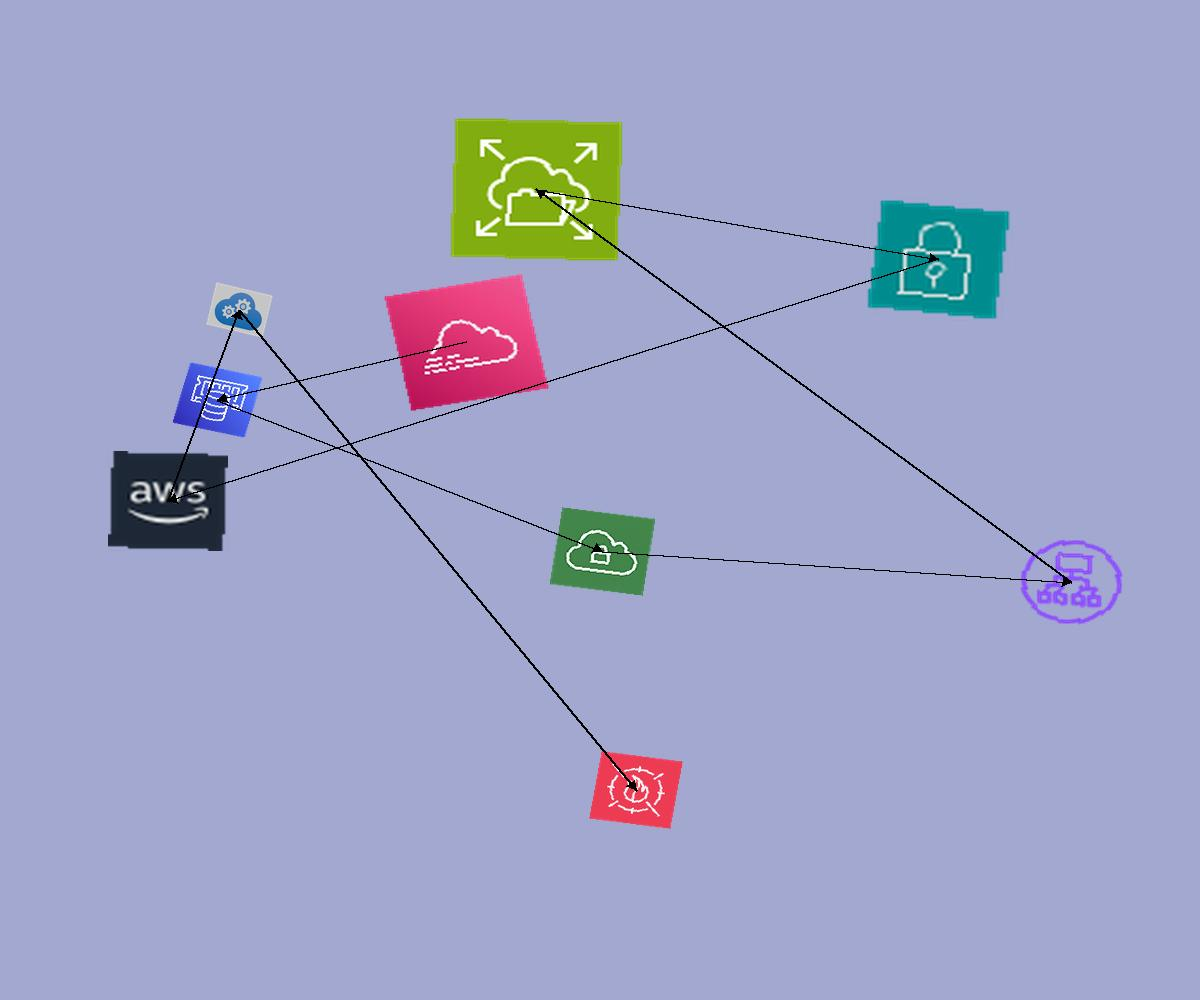AWS-Cloud-logo: (108, 451, 228, 551)
AWS-CloudTrail: (383, 273, 550, 412)
AWS-EFS: (449, 117, 624, 262)
AWS-ElastiCache: (172, 362, 263, 438)
AWS-Private-subnet: (865, 198, 1012, 321)
AWS-Private_vpc: (549, 507, 656, 596)
AWS-Res_Elastic-Load-Balancing_Application-Load-Balancer: (1010, 531, 1133, 633)
AWS-WAF: (589, 751, 683, 829)
Azure_cloud_services: (206, 282, 273, 338)
